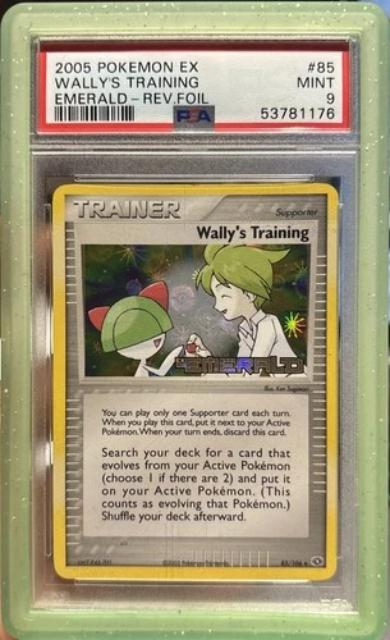Card: (47, 177, 346, 584)
Name: (192, 220, 315, 245)
